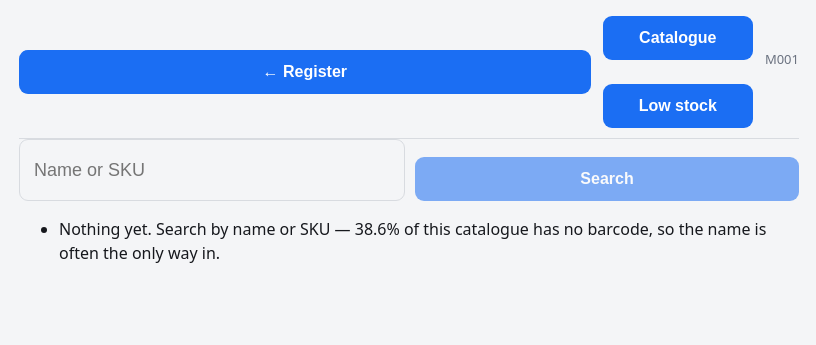
Test: offline is not the same as refused › shows a refusal as itself, not as an outage
Type "tomato" into the field named "Search the catalogue" at (212, 170), box [19,139,405,201]
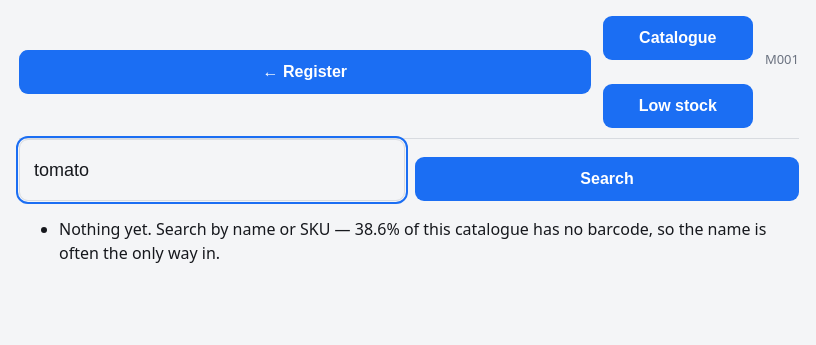
Click the button "Search" at (607, 179), box [415,157,799,201]
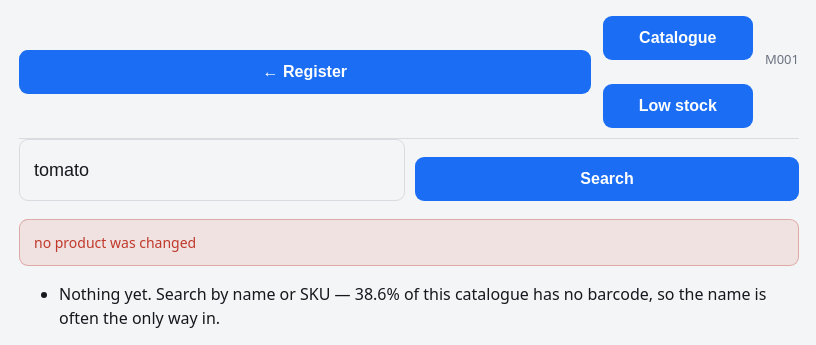
Expected: the text "no product was changed" is shown, [19,219,799,266]
